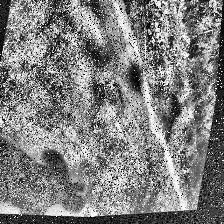pothole: (92, 76, 132, 126)
